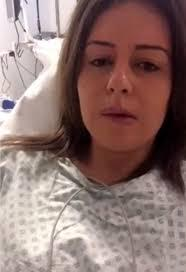strokeEyeWeak: (81, 43, 173, 77)
strokeMouthMid: (94, 99, 142, 131)
